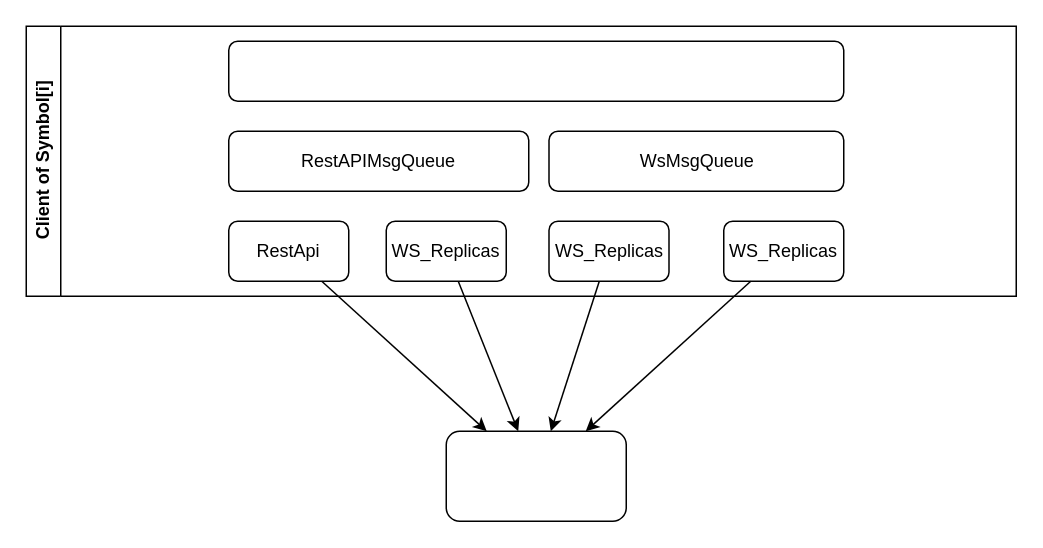
This 1043x548 diagram has some shape labels left out. The shapes that lost their labels are listed below. From the top down, each one's centre as x and y in pixels, then its label:
At point (535, 70): "EventLoop".
At point (535, 475): "Exchange".
